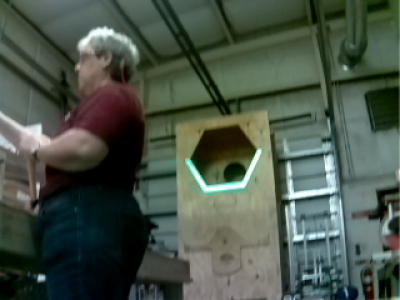target: (185, 149, 263, 193)
